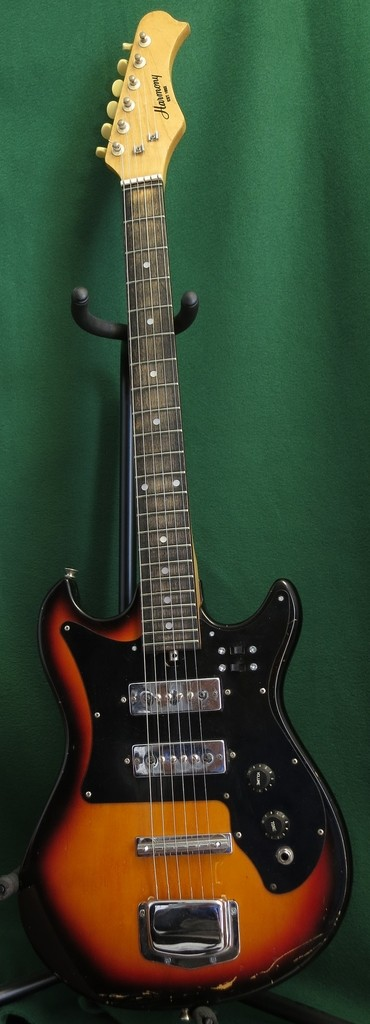guitar: (19, 11, 354, 1024)
